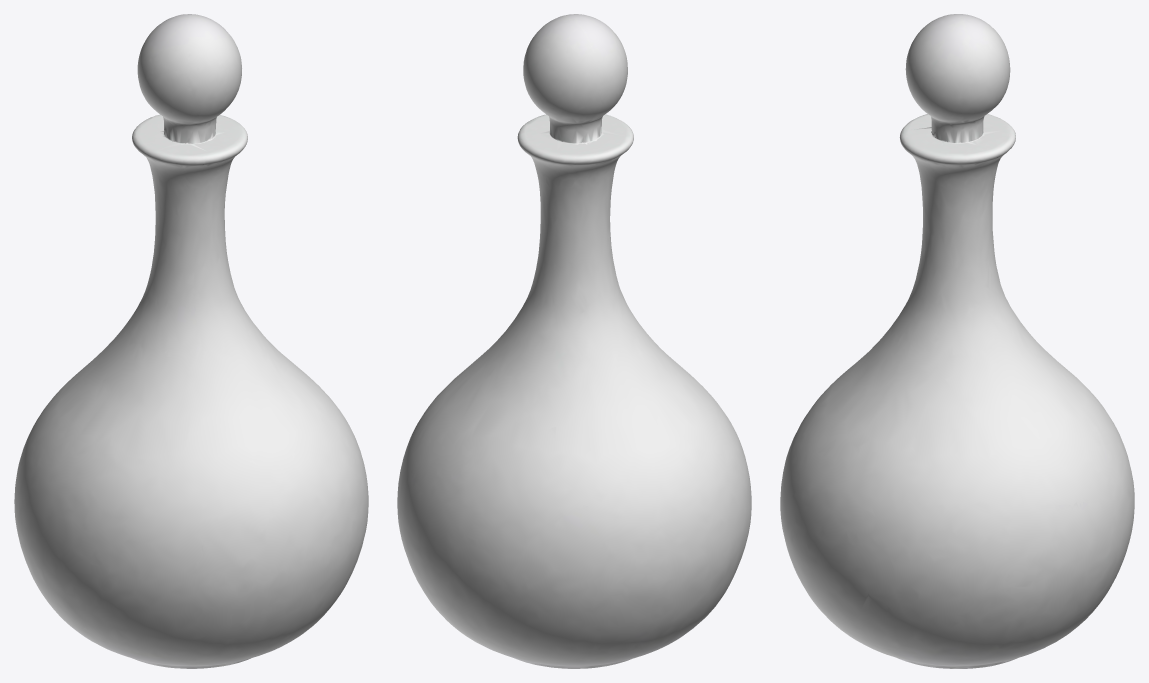
The picture shows the model from 3 angles, left to right: view 1: azimuth 30°, elevation 25°; view 2: azimuth 150°, elevation 25°; view 3: azimuth 270°, elevation 25°; orthographic projection.
Parts seen in each view (by area): view 1: Mesh_0; view 2: Mesh_0; view 3: Mesh_0.
Part boxes in pixels (x1=…): Mesh_0: x1=14, y1=14, x2=368, y2=668; Mesh_0: x1=397, y1=14, x2=751, y2=668; Mesh_0: x1=780, y1=14, x2=1134, y2=668.
Size of the model in its own units: 0.9918 by 1.9 by 0.9916.
Materials: 1 (1 with a texture image).
